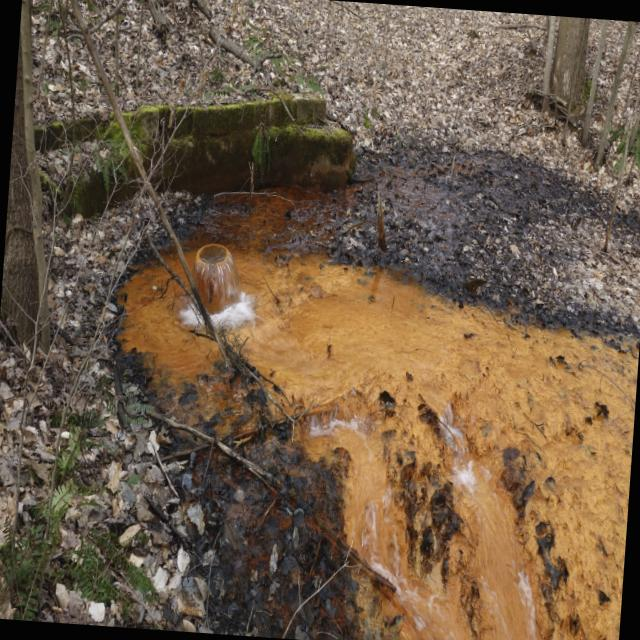yellow_boy: (186, 203, 638, 640), (118, 263, 216, 385)
